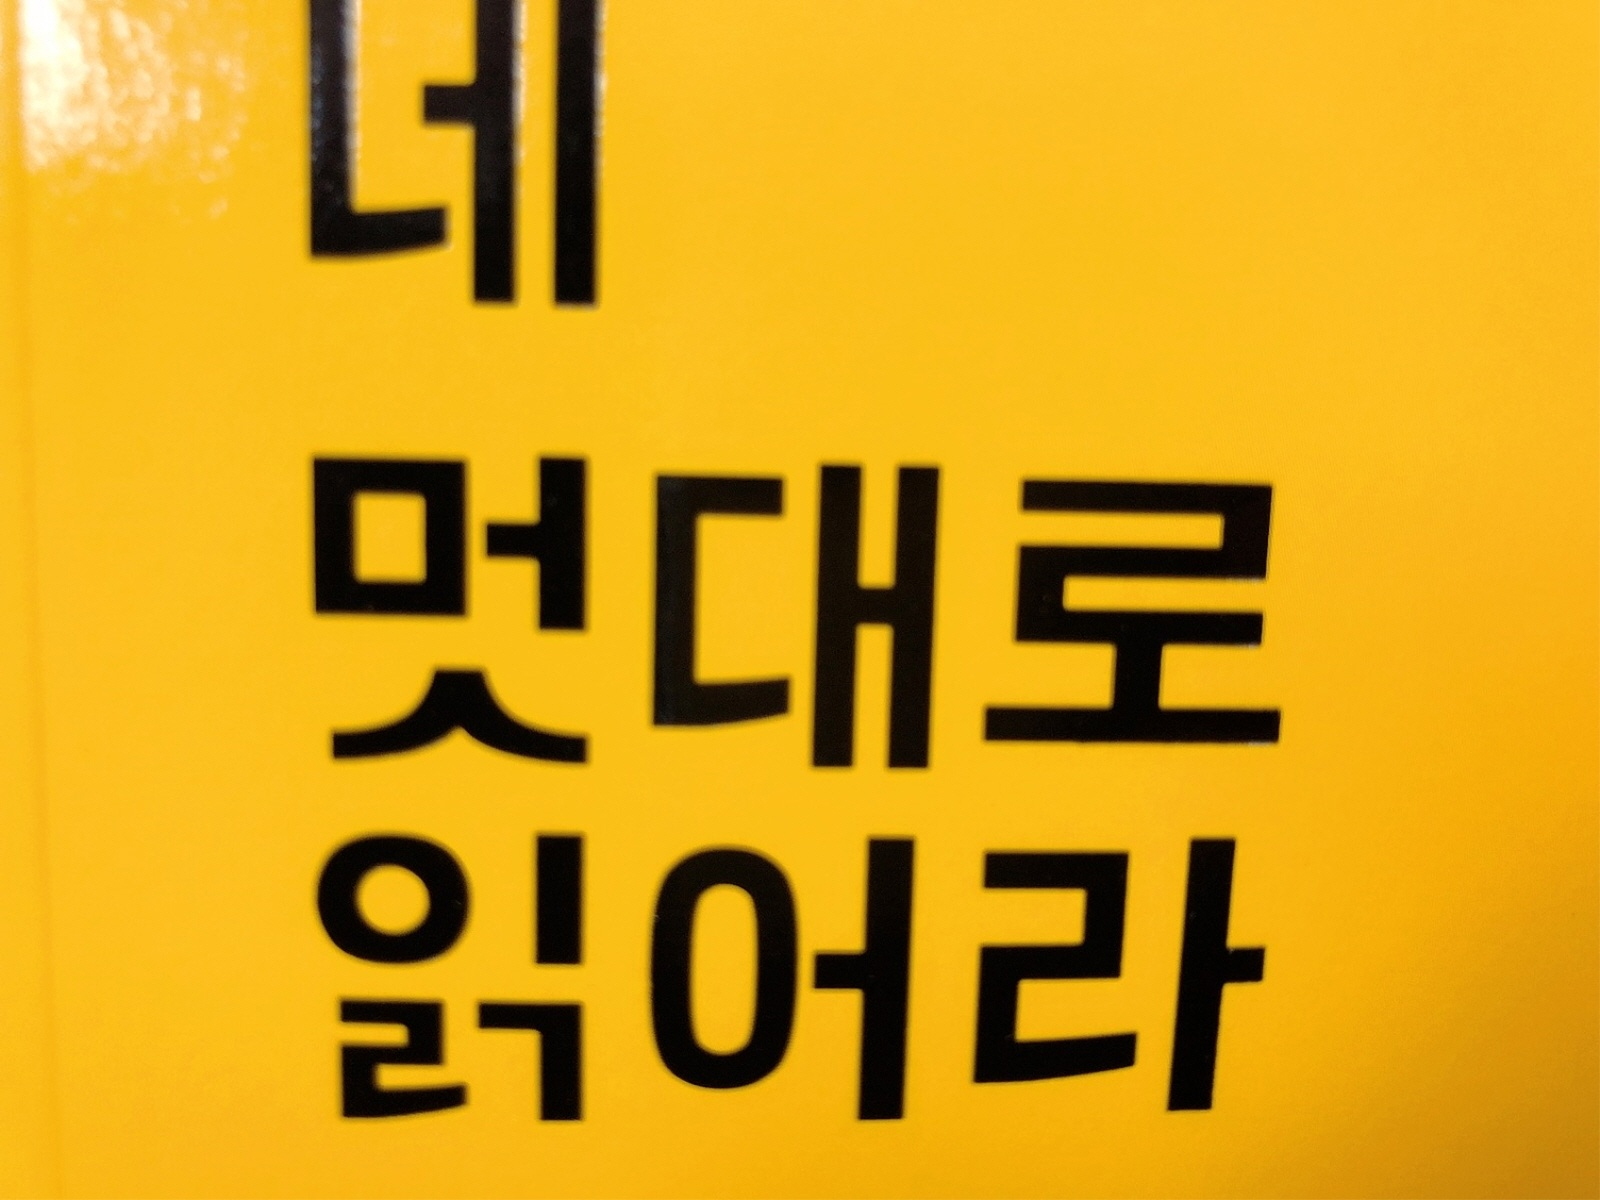text: (247, 424, 1324, 798), (270, 816, 1303, 1158), (242, 0, 659, 326)
